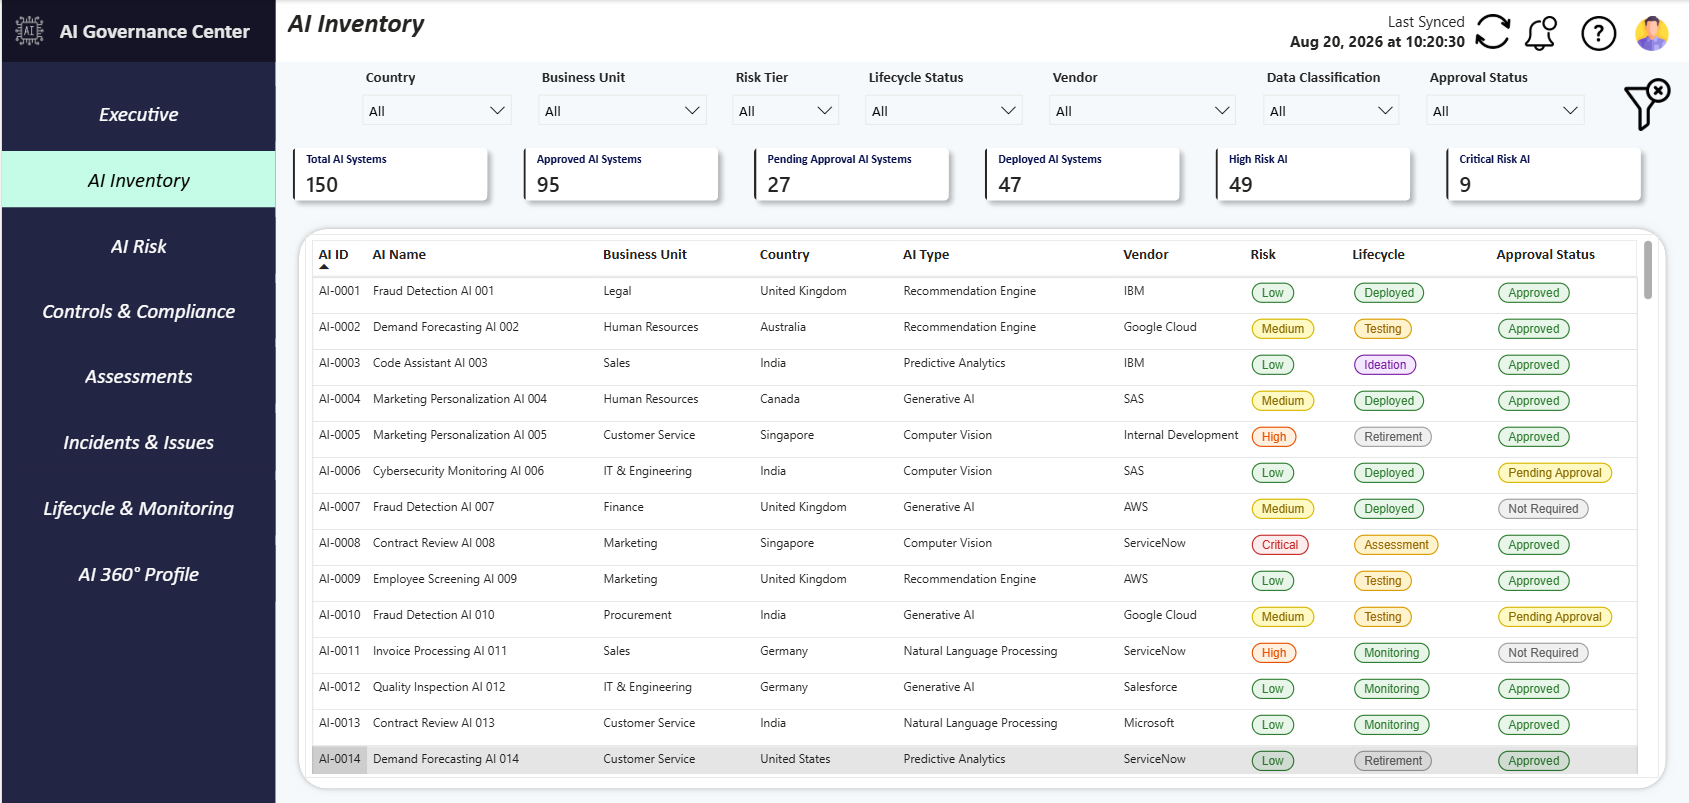

Layout of this report page (visuals, bound fields, positions):
{"tool":"powerbi","page":{"name":"AI Inventory","canvas":[1500,715],"ordinal":1},"visuals":[{"type":"shape","box":[0,0,1500,720.5],"z":0},{"type":"shape","box":[0,0,243.4,715.7],"z":1000},{"type":"shape","box":[0,0,243.4,55.2],"z":2000},{"type":"shape","box":[243.4,0,1256.6,55.2],"z":3000},{"type":"textbox","box":[46,10.2,186.1,33.7],"z":4000},{"type":"image","box":[1446.8,14.3,39.5,31.1],"z":5000},{"type":"image","box":[1347.6,14.3,38.6,31.1],"z":6000},{"type":"textbox","box":[249.1,0,146.6,61],"z":7000},{"type":"cardVisual","fields":{"Data":["_Measures (2).Total AI Systems","_Measures.Approved AI Systems","_Measures.Pending Approval AI Systems","_Measures.Deployed AI Systems","_Measures (2).High Risk AI","_Measures.Critical Risk AI"]},"box":[229,102.2,1257.7,105.3],"z":8000},{"type":"slicer","fields":{"Values":["AI_Inventory.Country"]},"box":[310,54.8,152.8,69.8],"z":9000},{"type":"slicer","fields":{"Values":["AI_Inventory.Business_Unit"]},"box":[466.3,54.8,169.6,69.8],"z":10000},{"type":"shape","box":[256.2,195.2,1230.6,513.3],"z":11000},{"type":"image","box":[9.2,14.3,30.7,25.6],"z":12000},{"type":"image","box":[1399.8,14.3,39,31],"z":13000},{"type":"textbox","box":[1100.7,5.1,204.2,44.9],"z":14000},{"type":"image","box":[1305,12.3,39,31],"z":15000},{"type":"shape","box":[0,76.2,242.9,49.5],"z":16000},{"type":"shape","box":[0,484,243,50],"z":17000},{"type":"shape","box":[0,426.5,243,49],"z":18000},{"type":"shape","box":[0,192.6,243,50],"z":19000},{"type":"shape","box":[0,367,243,51.1],"z":20000},{"type":"shape","box":[0,308.5,243,50],"z":21000},{"type":"shape","box":[0,251.1,243,49],"z":22000},{"type":"shape","box":[0,134.1,243,50],"z":23000},{"type":"slicer","fields":{"Values":["AI_Inventory.Risk_Tier"]},"box":[639.3,54.8,114.8,69.8],"z":24000},{"type":"slicer","fields":{"Values":["AI_Inventory.Lifecycle_Status"]},"box":[757.5,54.8,159.9,69.8],"z":25000},{"type":"slicer","fields":{"Values":["AI_Inventory.Vendor"]},"box":[920.8,54.8,186.4,69.8],"z":26000},{"type":"slicer","fields":{"Values":["AI_Inventory.Data_Classification"]},"box":[1110.5,54.8,141.3,69.8],"z":27000},{"type":"image","box":[1439,68,46.8,49.5],"z":28000},{"type":"slicer","fields":{"Values":["AI_Inventory.Approval_Status"]},"box":[1255.3,54.8,160.8,69.8],"z":29000},{"type":"tableEx","fields":{"Values":["AI_Inventory.AI_ID","AI_Inventory.AI_Name","AI_Inventory.Business_Unit","AI_Inventory.Country","AI_Inventory.AI_Type","AI_Inventory.Vendor","_Measures.Chip","_Measures.Chip_Lifecycle","_Measures.Chip_Status"]},"box":[269.4,207.6,1203.2,484.1],"z":30000}]}

Visuals, with their boxes on the page's 1500x715 design canvas (x1, y1, x2, y2). These are canvas units, not pixel positions in the 1689x803 screenshot, which may show the page scaled, cropped or inside an application window:
shape: left=0, top=0, right=1500, bottom=720
shape: left=0, top=0, right=243, bottom=716
shape: left=0, top=0, right=243, bottom=55
shape: left=243, top=0, right=1500, bottom=55
textbox: left=46, top=10, right=232, bottom=44
image: left=1447, top=14, right=1486, bottom=45
image: left=1348, top=14, right=1386, bottom=45
textbox: left=249, top=0, right=396, bottom=61
cardVisual - _Measures (2).Total AI Systems x _Measures.Approved AI Systems: left=229, top=102, right=1487, bottom=208
slicer - AI_Inventory.Country: left=310, top=55, right=463, bottom=125
slicer - AI_Inventory.Business_Unit: left=466, top=55, right=636, bottom=125
shape: left=256, top=195, right=1487, bottom=708
image: left=9, top=14, right=40, bottom=40
image: left=1400, top=14, right=1439, bottom=45
textbox: left=1101, top=5, right=1305, bottom=50
image: left=1305, top=12, right=1344, bottom=43
shape: left=0, top=76, right=243, bottom=126
shape: left=0, top=484, right=243, bottom=534
shape: left=0, top=426, right=243, bottom=476
shape: left=0, top=193, right=243, bottom=243
shape: left=0, top=367, right=243, bottom=418
shape: left=0, top=308, right=243, bottom=358
shape: left=0, top=251, right=243, bottom=300
shape: left=0, top=134, right=243, bottom=184
slicer - AI_Inventory.Risk_Tier: left=639, top=55, right=754, bottom=125
slicer - AI_Inventory.Lifecycle_Status: left=758, top=55, right=917, bottom=125
slicer - AI_Inventory.Vendor: left=921, top=55, right=1107, bottom=125
slicer - AI_Inventory.Data_Classification: left=1110, top=55, right=1252, bottom=125
image: left=1439, top=68, right=1486, bottom=118
slicer - AI_Inventory.Approval_Status: left=1255, top=55, right=1416, bottom=125
tableEx - AI_Inventory.AI_ID x AI_Inventory.AI_Name: left=269, top=208, right=1473, bottom=692
